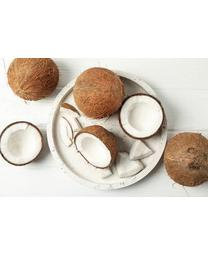coconut: (74, 67, 124, 118), (163, 131, 207, 186), (8, 58, 61, 99), (118, 94, 164, 138), (0, 121, 44, 167), (75, 124, 119, 168)
